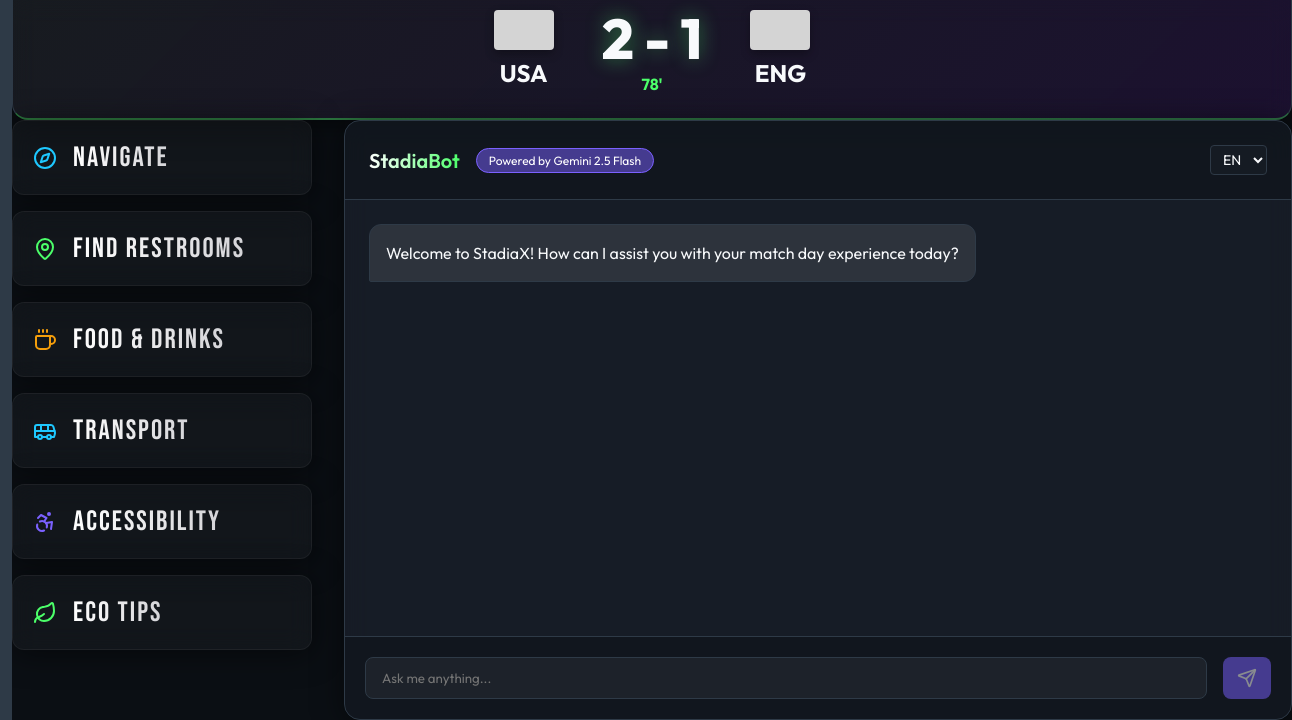
Scenario: FanView Component › handles API error response gracefully
(page scrolled)
Type "Trigger error" into the field with placeholder "Ask me anything..." at coordinates (786, 678), box left=365, top=657, right=1207, bottom=699
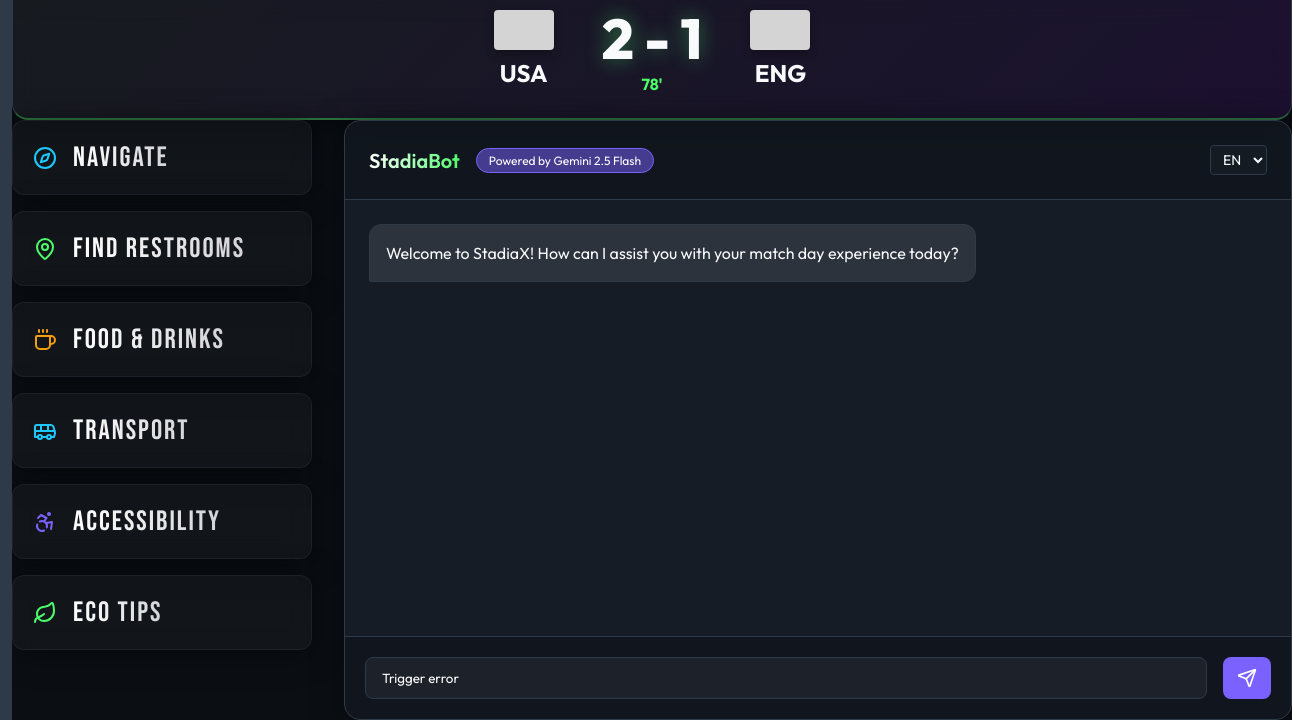
Click the button named "Send message" at coordinates (1247, 678), box left=1223, top=657, right=1271, bottom=699
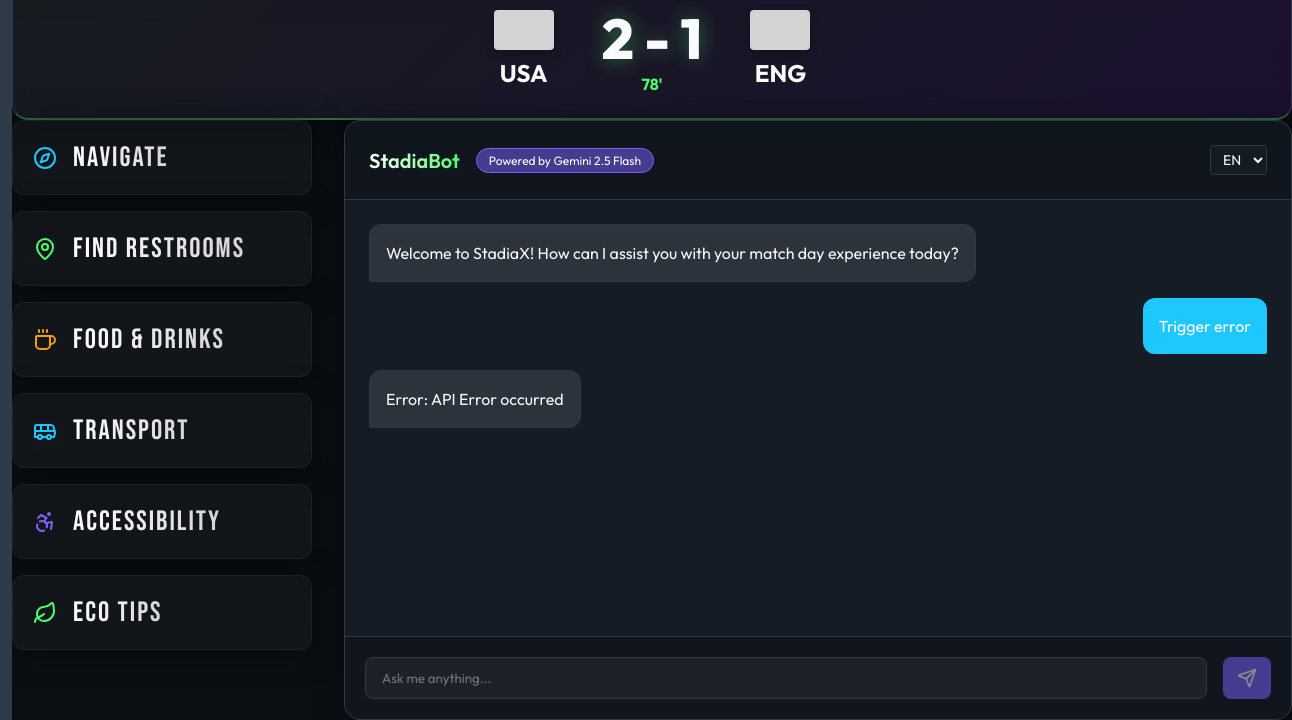
Expected: the text "Error: API Error occurred" is shown, left=369, top=370, right=580, bottom=428
